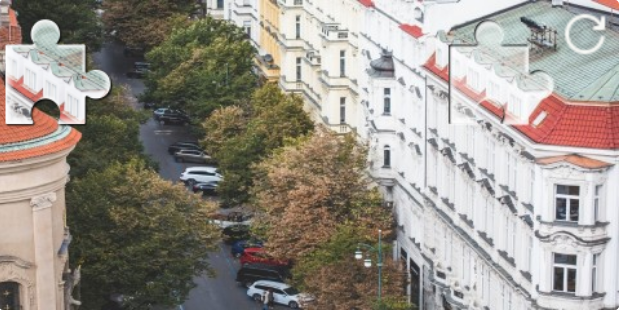target: (449, 21, 555, 125)
